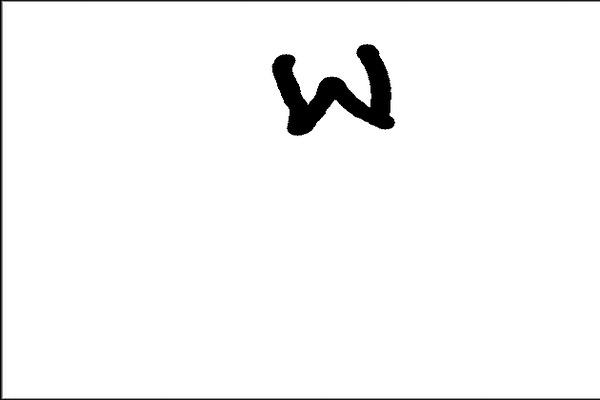w: (254, 25, 400, 146)
